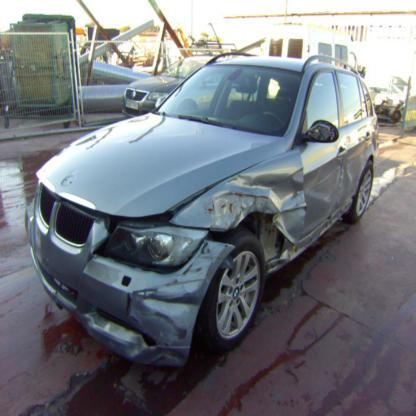door: (296, 118, 376, 243)
front_bumper: (26, 206, 233, 364)
headlamp: (106, 224, 208, 270)
hood: (37, 112, 286, 218)
